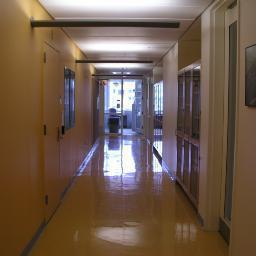Puerta: (210, 13, 234, 235), (43, 43, 61, 206)
